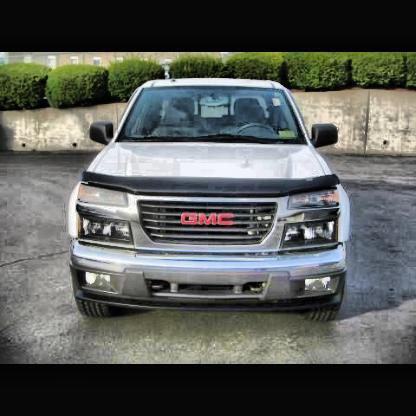GMC Canyon Extended Cab 2012: (67, 77, 353, 325)
